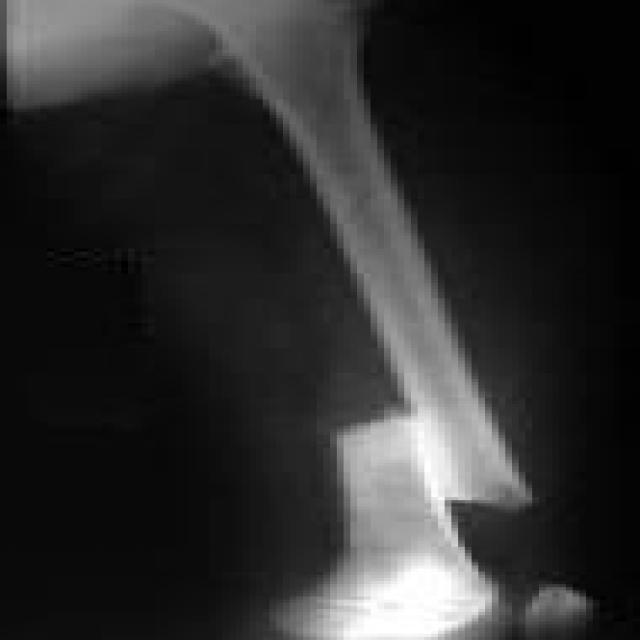Broken: (240, 46, 547, 507), (319, 404, 471, 560)
